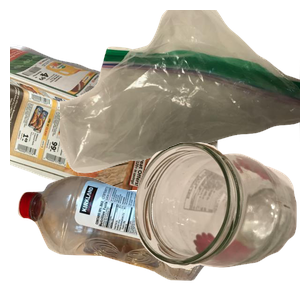glass: (132, 139, 300, 300)
paper: (10, 42, 224, 222)
plastic: (15, 173, 222, 300)
trash: (60, 10, 300, 176)
